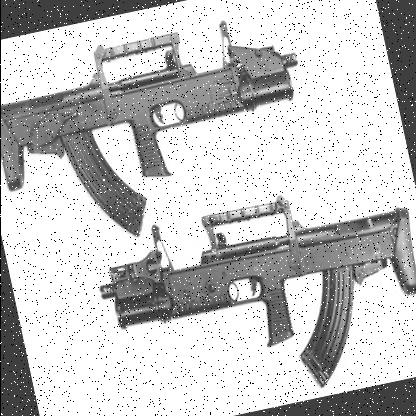rifle: (79, 163, 416, 416), (0, 0, 320, 259)
